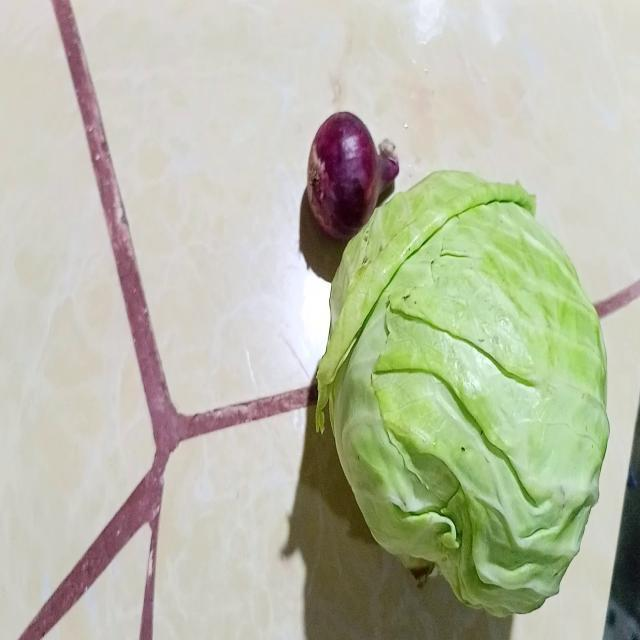cabbage: (313, 172, 610, 618)
onion: (306, 111, 399, 245)
